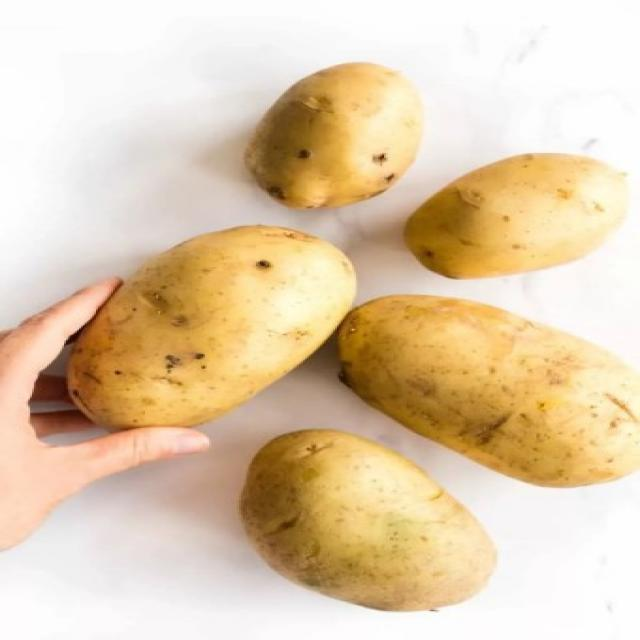potato: (61, 221, 358, 438), (336, 292, 640, 490), (242, 428, 498, 614), (403, 148, 640, 280), (242, 58, 423, 208)
